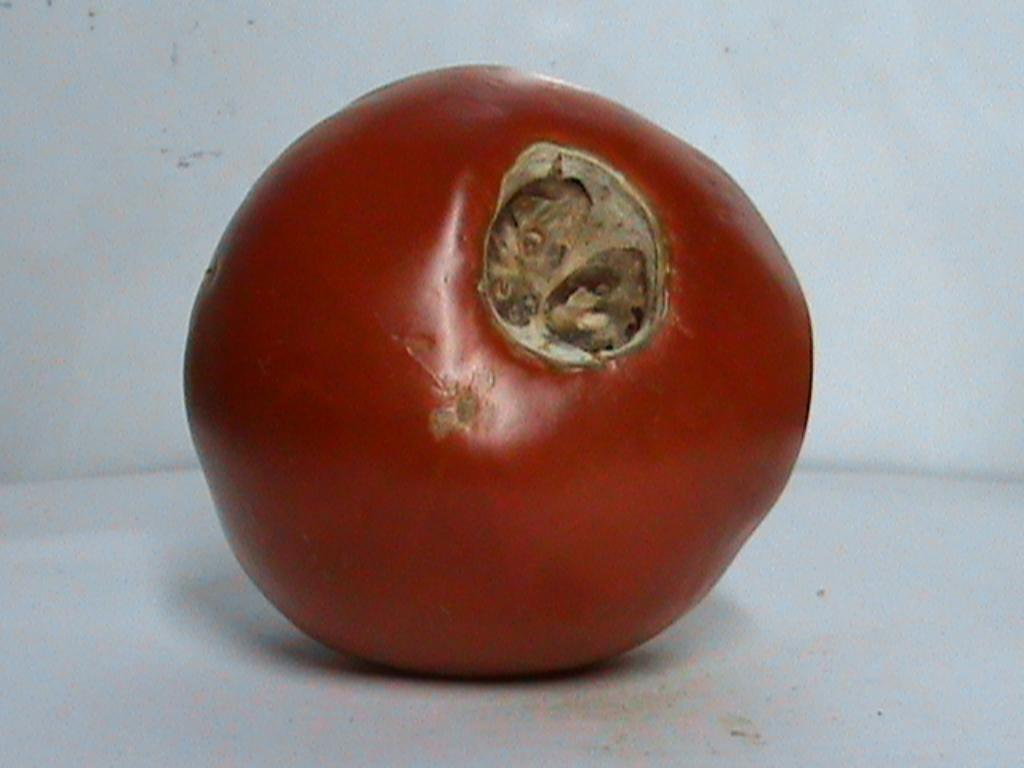rot_mold_decay: (478, 142, 666, 368)
tomato: (184, 67, 811, 675)
